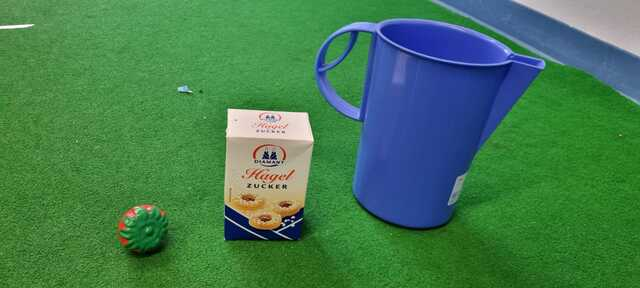004_sugar_box: (220, 106, 316, 245)
012_strawberry: (115, 202, 173, 257)
019_pitcher_base: (314, 16, 549, 233)
